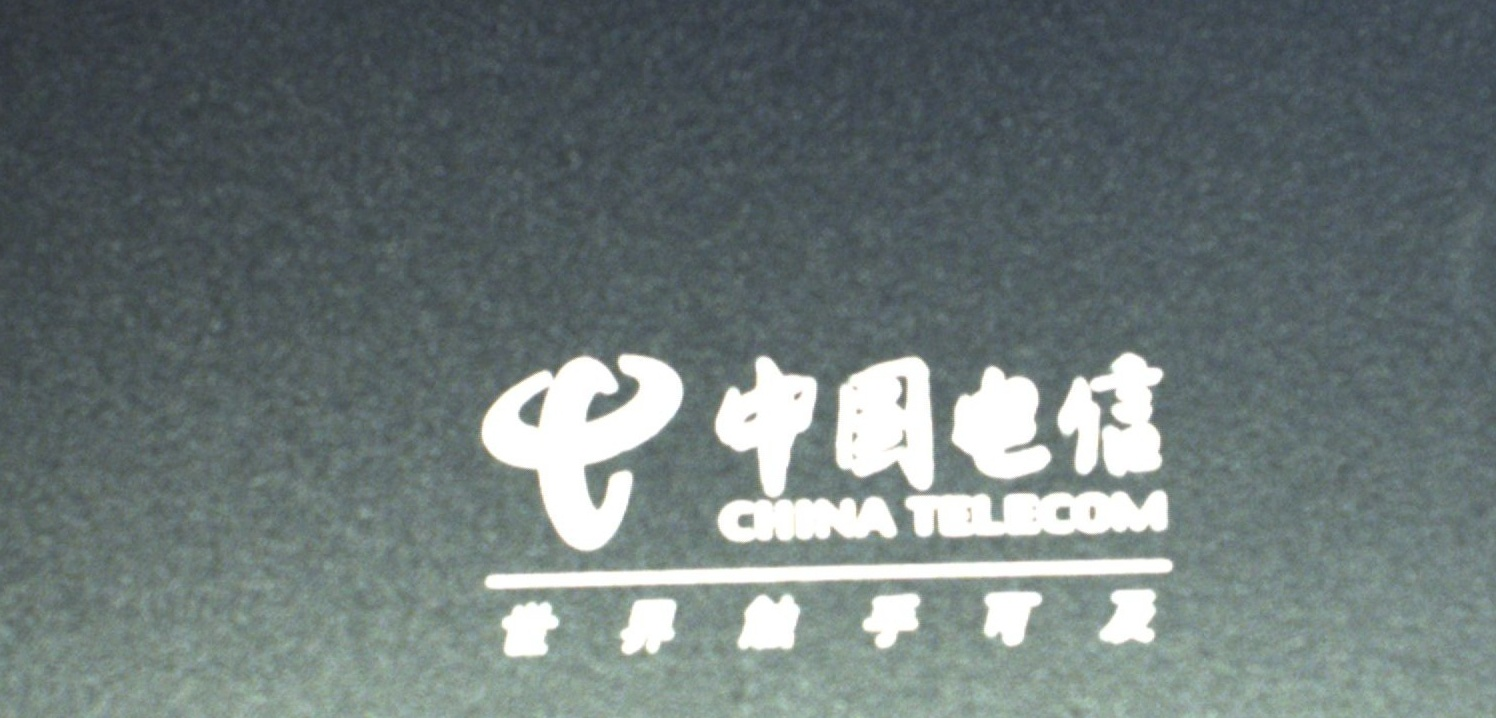AB_ChinaTelecom: (460, 345, 1186, 669)
